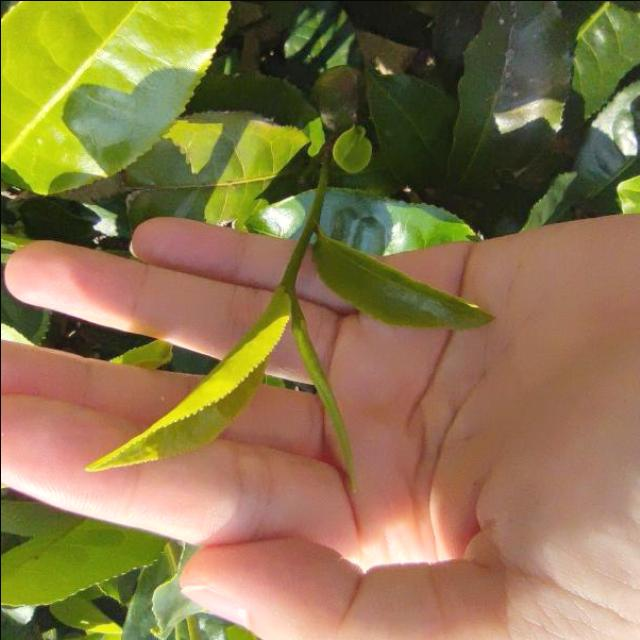Stem: (281, 277, 294, 289)
